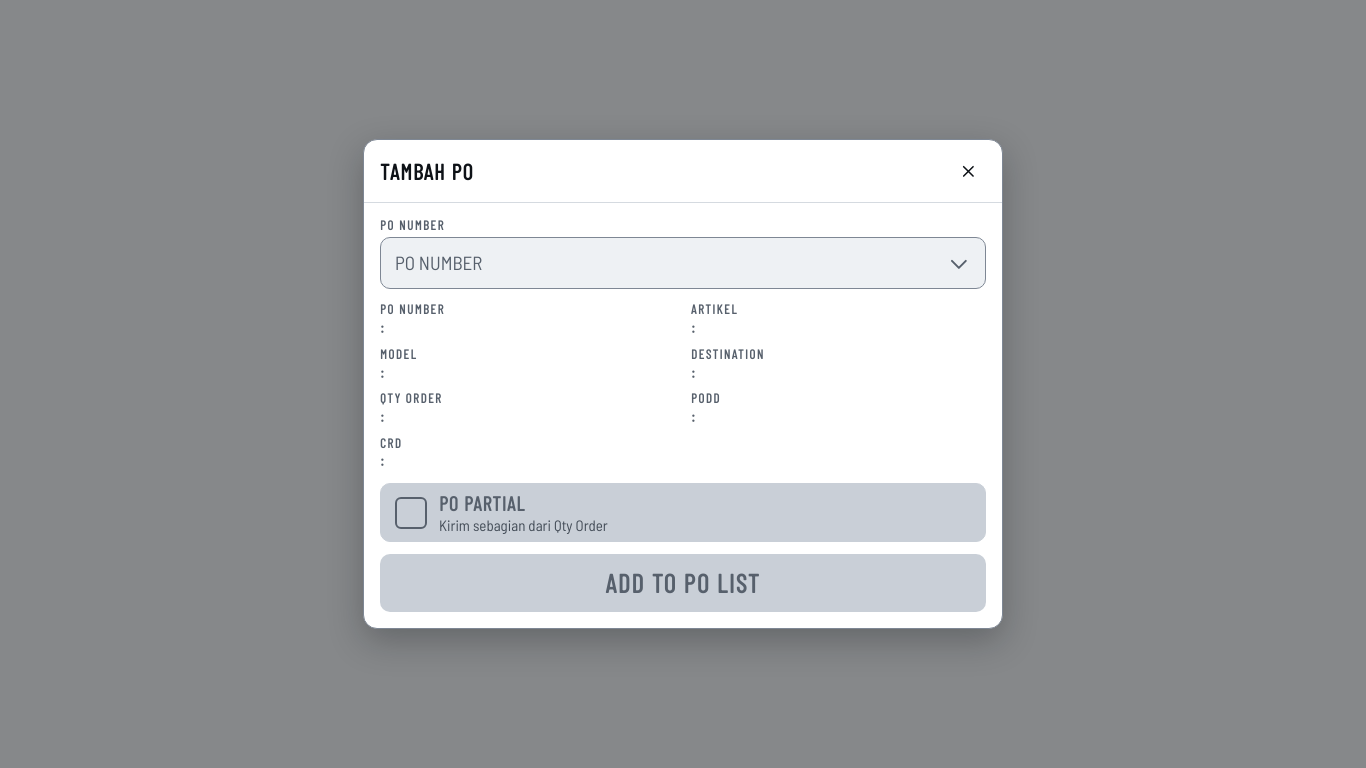
Test: S4 Add PO search (doc 05 §9.1, FR-03.2) › disables a PO already in the list (AC-03.1)
Click the button "PO NUMBER".
click(439, 263)  # box [380,237,986,289]
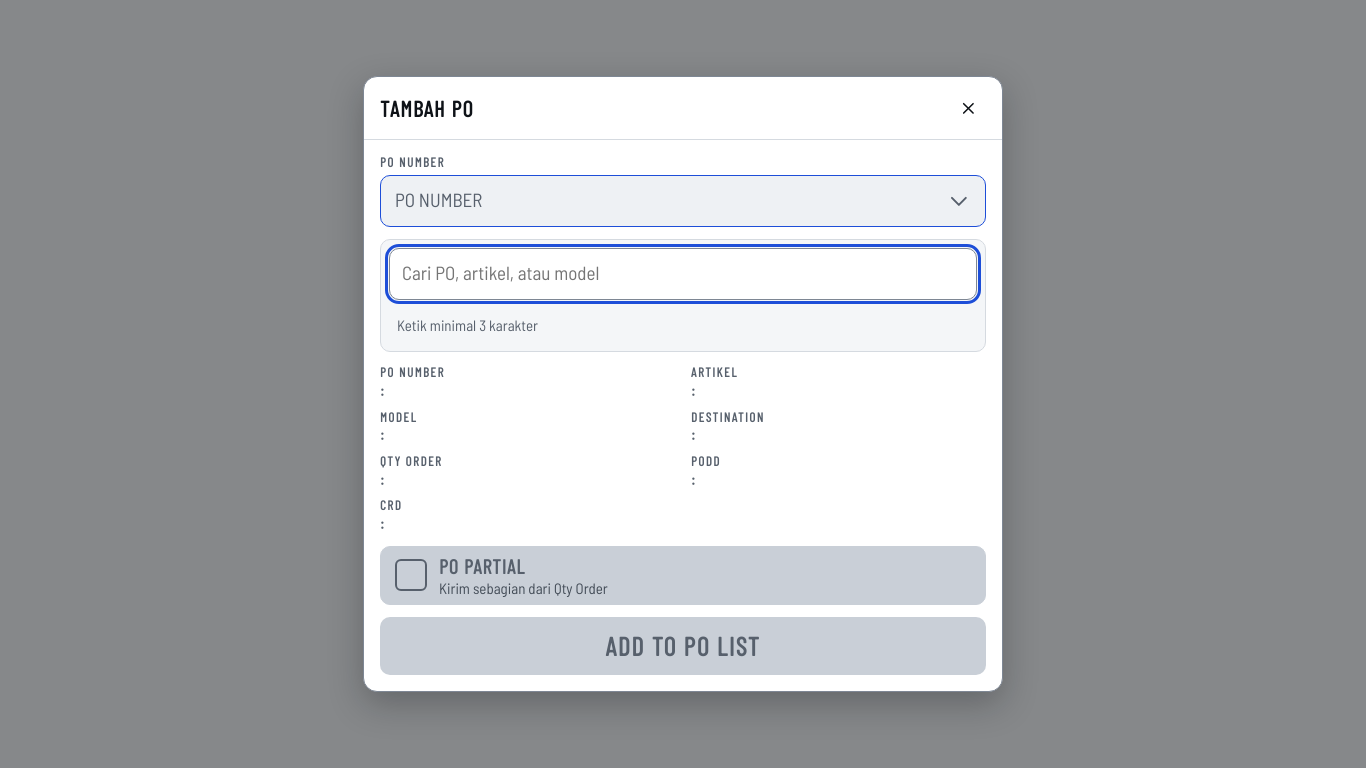
Type "0902368" into the search field labelled "Cari PO, artikel, atau model".
click(683, 274); type("0902368")  # box [389,248,977,300]
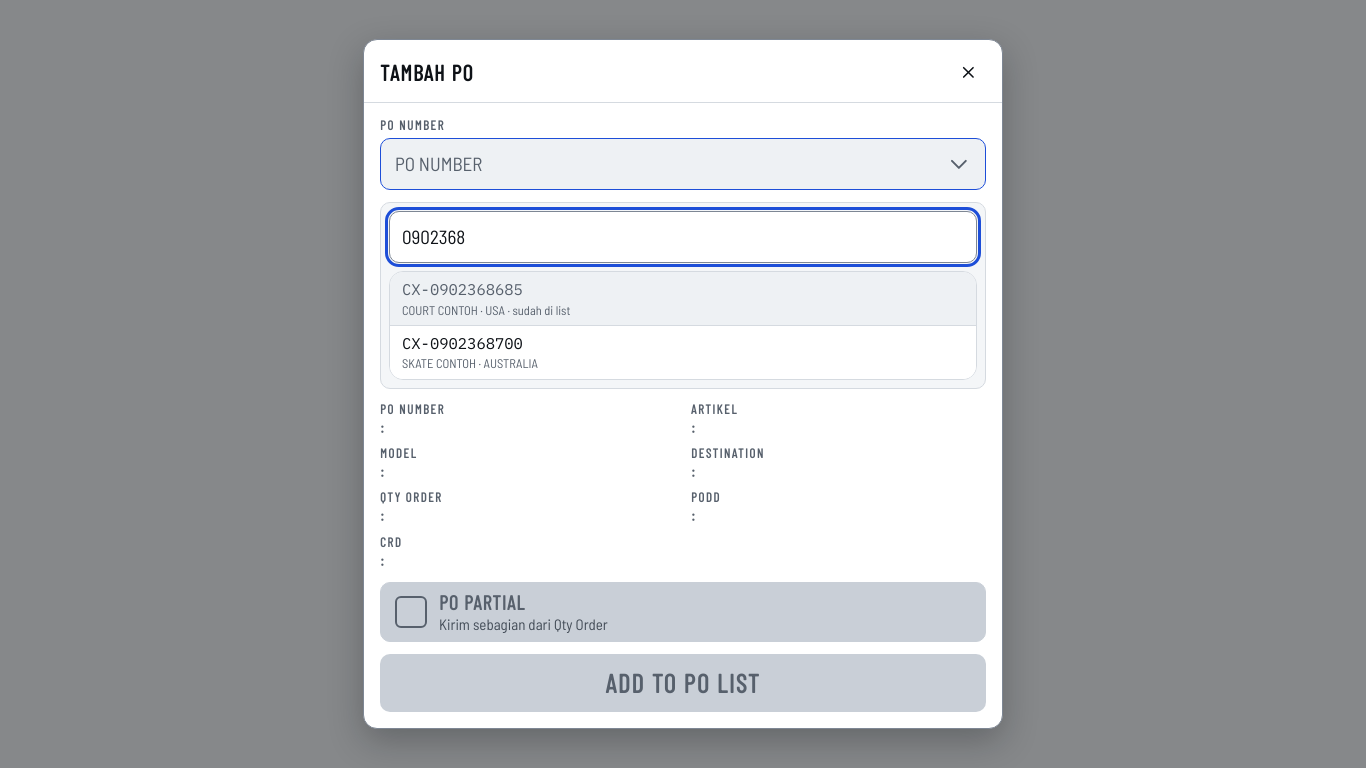
Expected: the option "CX-0902368685 COURT CONTOH · USA · sudah di list" is disabled, [390,272,976,326]
Expected: the option "CX-0902368685 COURT CONTOH · USA · sudah di list" is shown, [390,272,976,326]
Expected: the option "CX-0902368700 SKATE CONTOH · AUSTRALIA" is enabled, [390,326,976,379]
